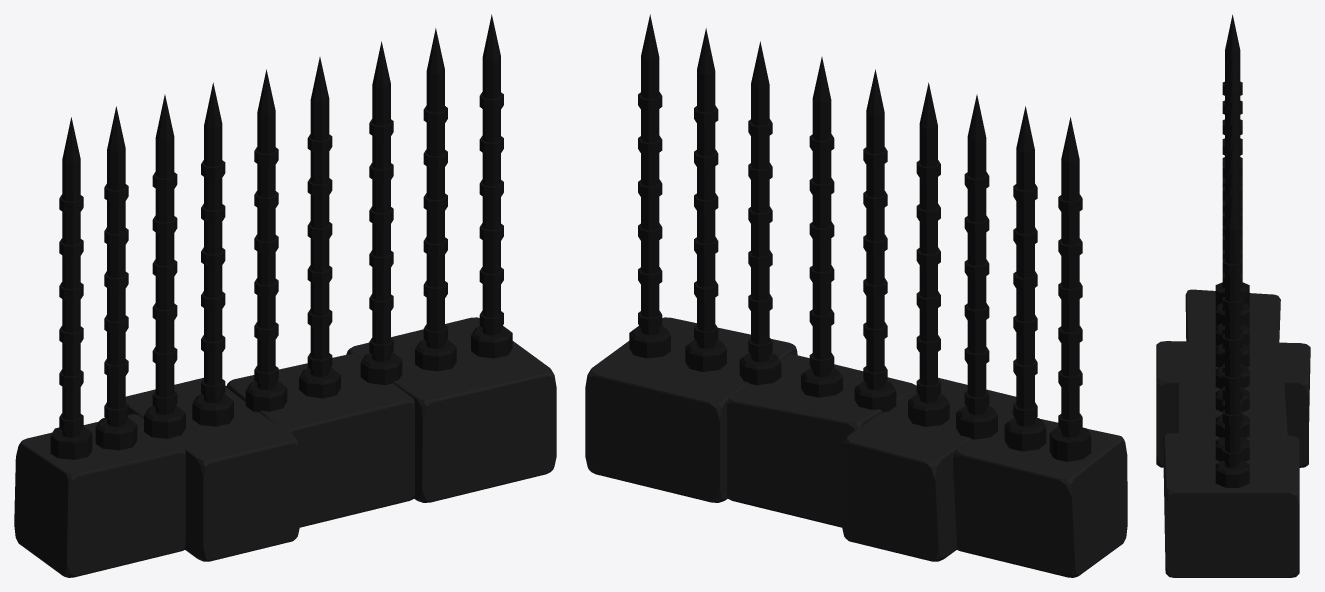
Rendered from Fence_02.fbx.
3 views of the same model, side by side, from view 1: azimuth 30°, elevation 25°; view 2: azimuth 150°, elevation 25°; view 3: azimuth 270°, elevation 25° (orthographic). The views are drawn at different scales.
Visible parts, largest first — view 1: Fence_02; view 2: Fence_02; view 3: Fence_02.
Boxes of the visible parts, box(x1,y1,x2,y2) form: Fence_02: box(14, 14, 556, 577); Fence_02: box(585, 14, 1127, 577); Fence_02: box(1156, 14, 1310, 577).
Bounding box in the file's own units: 916 × 801 × 298.
